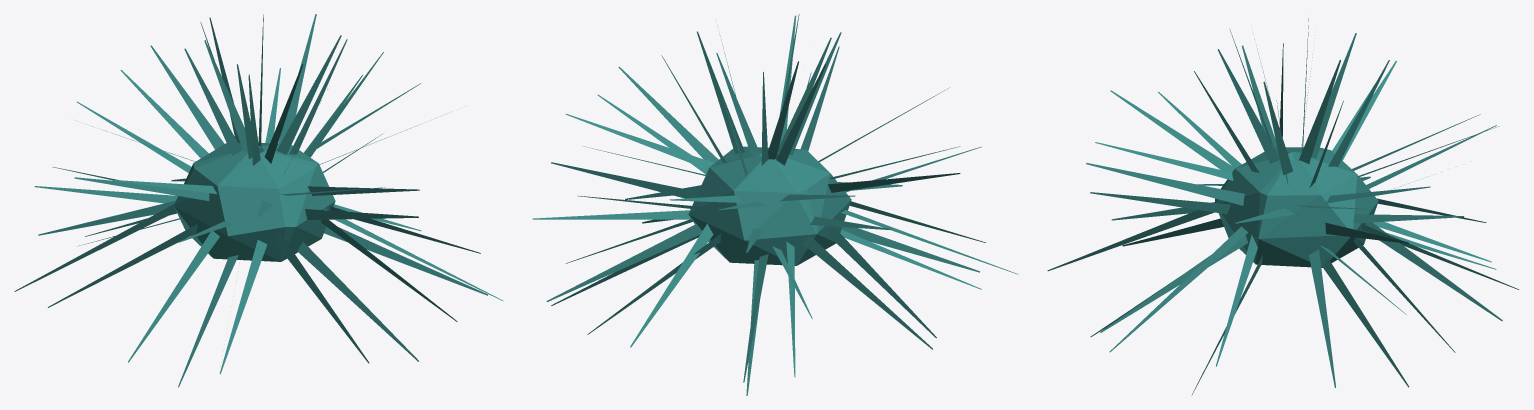
File: SM_Sea_Urchin_Mature_B.fbx
3 views of the same model, side by side, from view 1: azimuth 30°, elevation 25°; view 2: azimuth 150°, elevation 25°; view 3: azimuth 270°, elevation 25° (orthographic).
Parts seen in each view (by area): view 1: sea-urchin-mature-b; view 2: sea-urchin-mature-b; view 3: sea-urchin-mature-b.
Part boxes in pixels (box(x1,y1,x2,y2)): sea-urchin-mature-b: box(14, 14, 503, 387); sea-urchin-mature-b: box(532, 14, 1018, 395); sea-urchin-mature-b: box(1047, 18, 1519, 395).
Size of the model in its own units: 0.3204 by 0.2074 by 0.3372.
